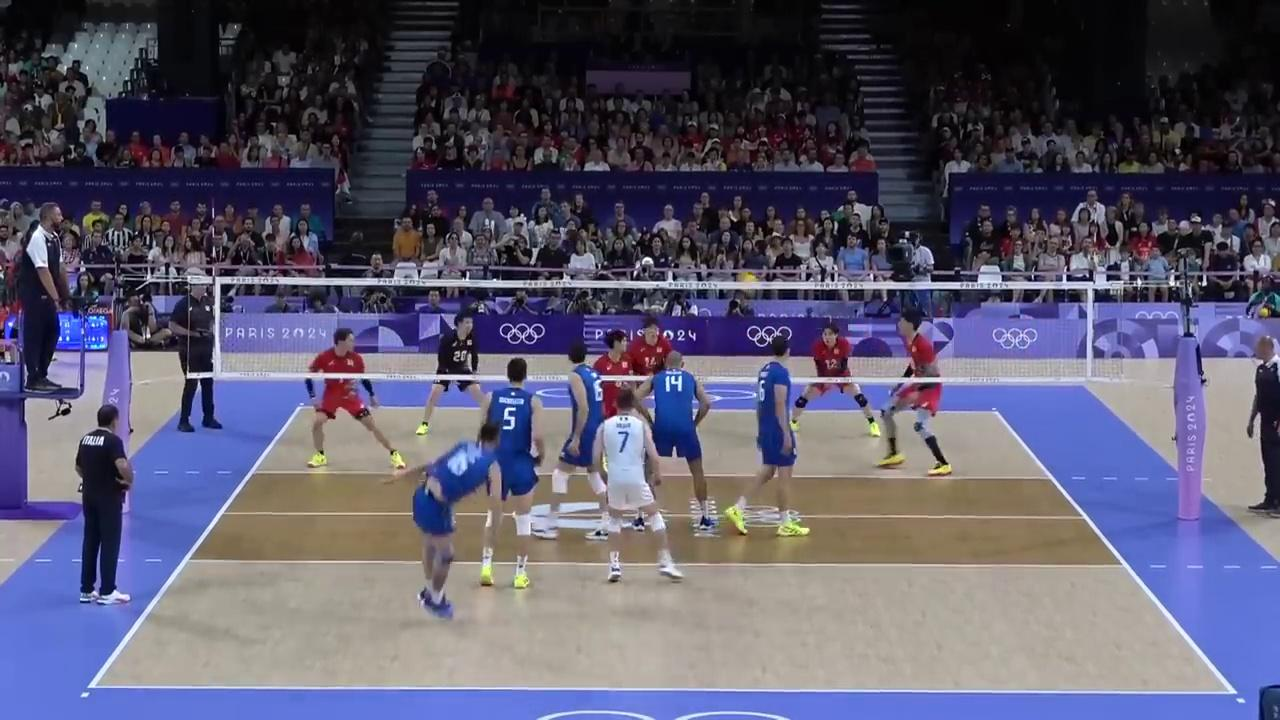ball: (734, 271, 760, 283)
